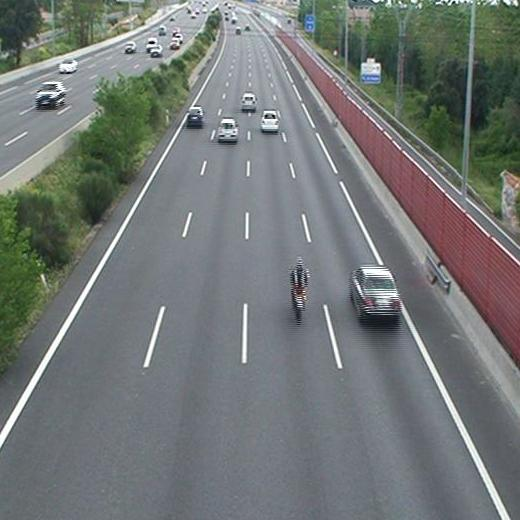car: (352, 266, 401, 316), (218, 120, 238, 140), (261, 111, 279, 132), (187, 108, 204, 124), (241, 93, 256, 109)
motorcycle: (290, 257, 308, 322)
